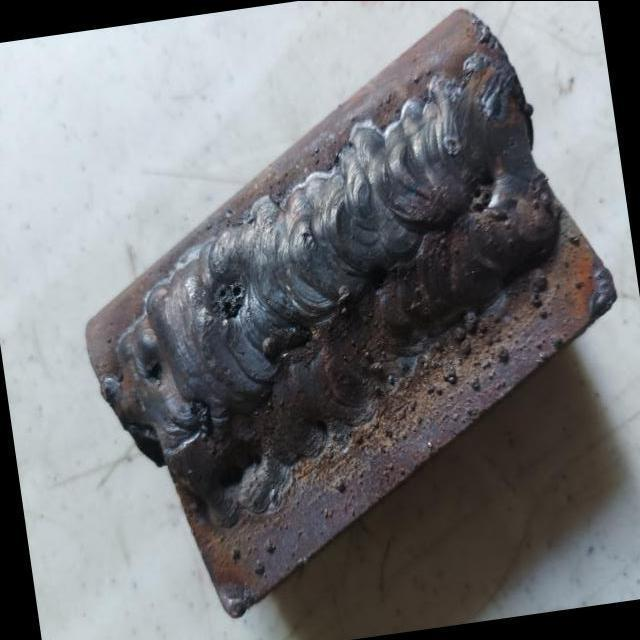defect: (464, 164, 499, 221), (210, 271, 246, 323), (186, 395, 216, 446), (144, 357, 167, 392), (368, 259, 390, 289), (442, 132, 458, 154)
